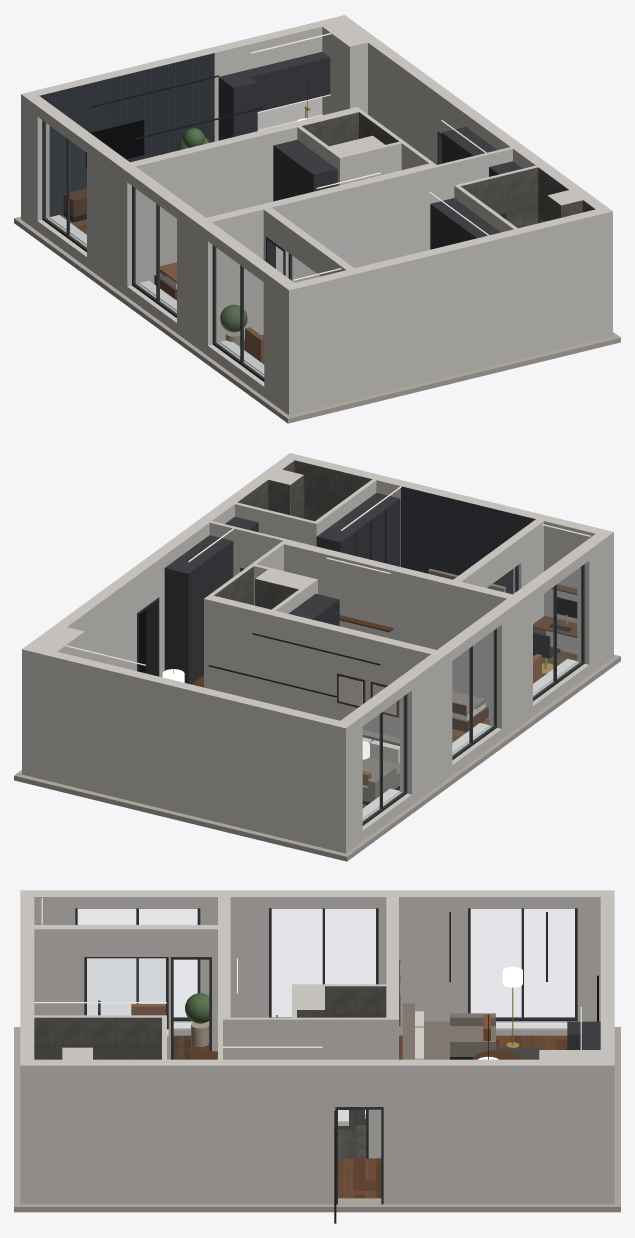
The model's file is tun.glb.
3 renders of one model, top to bottom at view 1: azimuth 30°, elevation 25°; view 2: azimuth 150°, elevation 25°; view 3: azimuth 270°, elevation 25°, orthographic. The views are drawn at different scales.
Bounding box in the file's own units: 9.15 × 3.12 × 11.9.
Materials: 30 (5 with a texture image).
